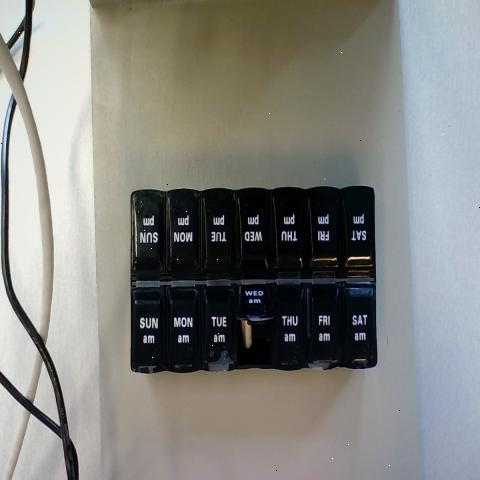FRI-am: (310, 280, 342, 358)
FRI-pm: (310, 188, 342, 260)
MON-am: (170, 289, 206, 369)
MON-pm: (172, 195, 205, 277)
Open: (241, 317, 275, 367)
PillBox: (116, 160, 396, 410)
SAT-am: (342, 282, 376, 366)
SAT-pm: (343, 187, 374, 267)
SUN-am: (134, 284, 166, 366)
SUN-pm: (134, 193, 167, 279)
THU-am: (277, 280, 306, 364)
THU-pm: (276, 188, 308, 264)
TUE-am: (208, 286, 241, 366)
TUE-pm: (208, 192, 237, 274)
WED-pm: (241, 194, 273, 274)
